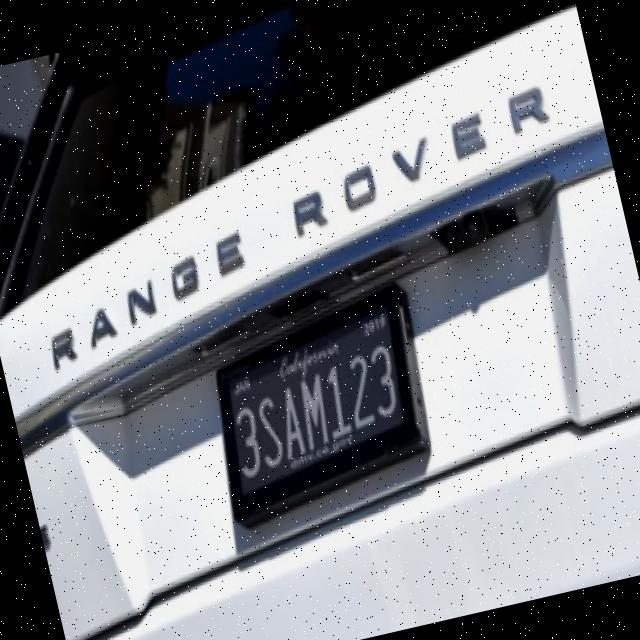Autre: (216, 290, 420, 523)
